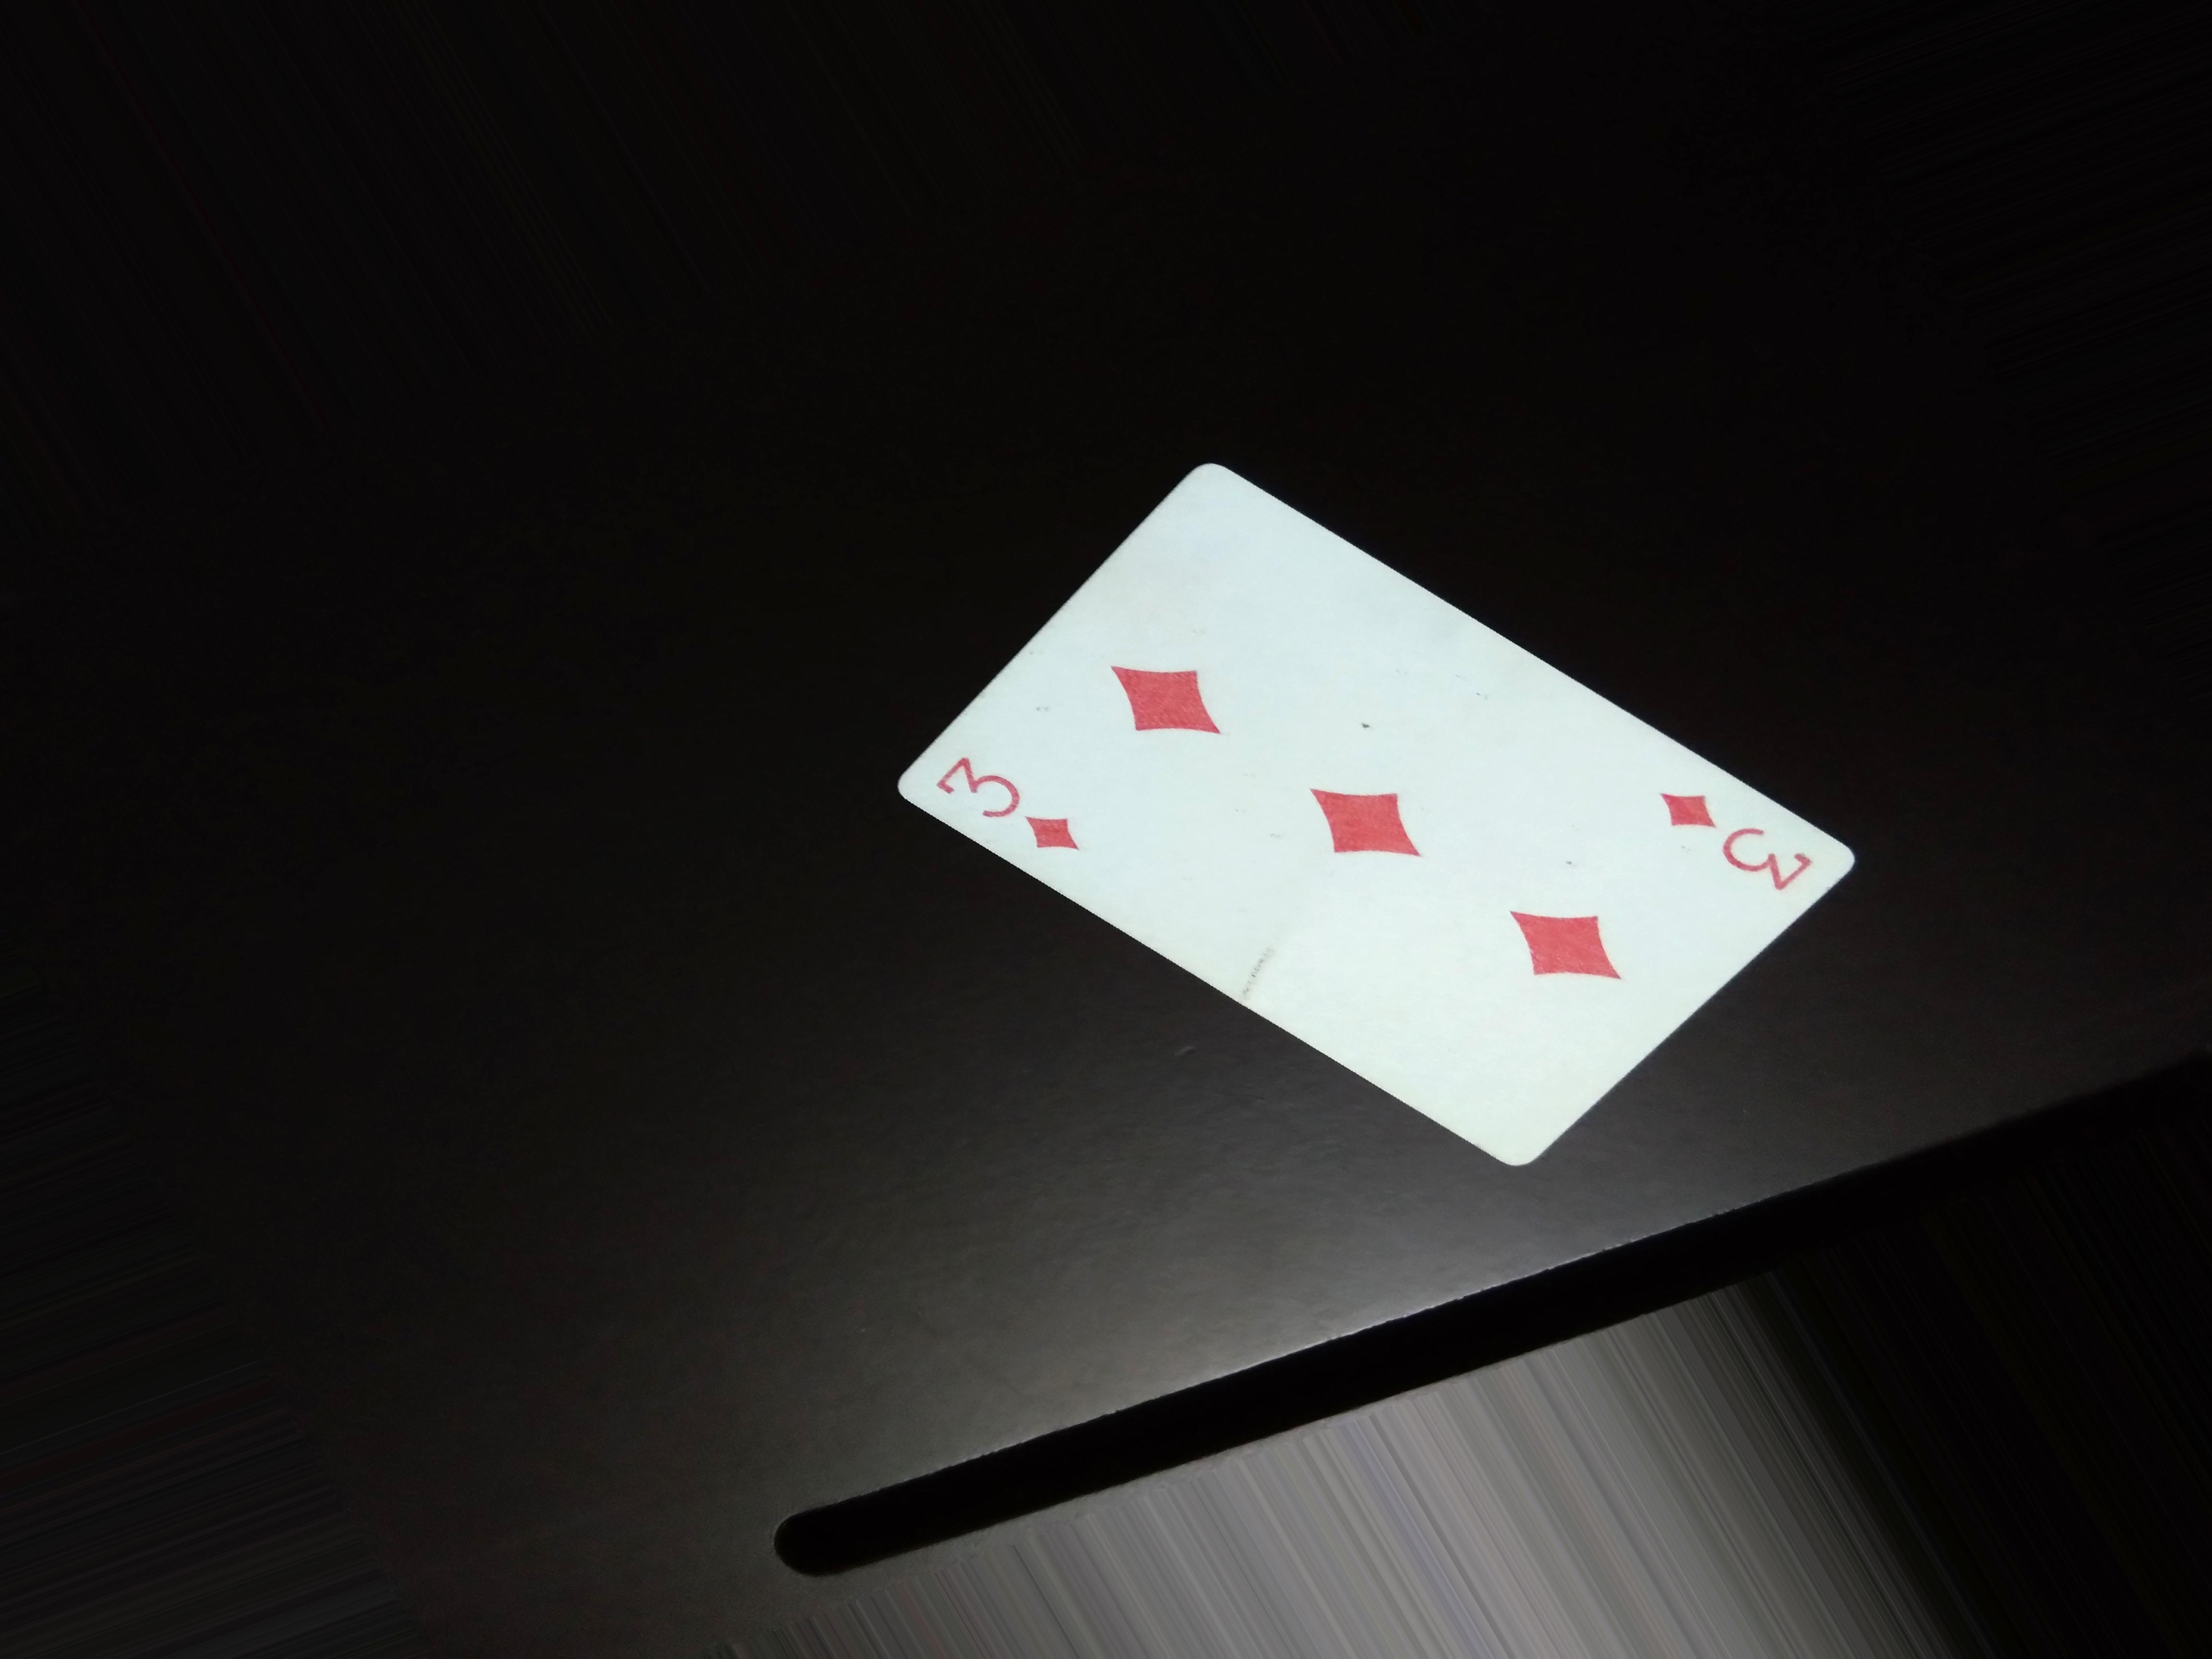3D: (1639, 774, 1829, 903)
